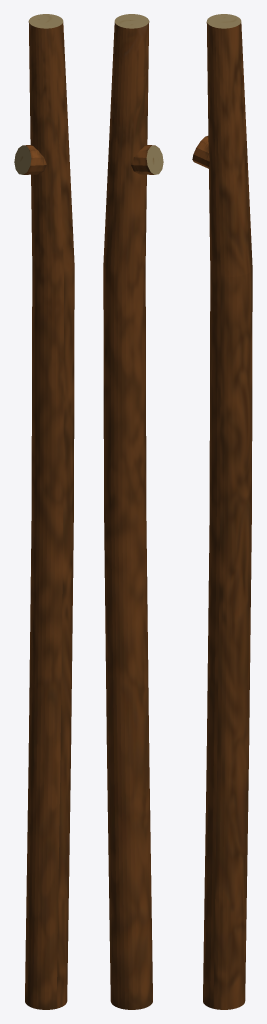
File: Club.gltf
3 renders of one model, left to right at view 1: azimuth 30°, elevation 25°; view 2: azimuth 150°, elevation 25°; view 3: azimuth 330°, elevation 25°, orthographic.
Parts seen in each view (by area): view 1: stick4; view 2: stick4; view 3: stick4.
Part boxes in pixels (x1,y1,x2,y2): stick4: (14,14,74,1009); stick4: (103,14,163,1009); stick4: (192,14,252,1009).
Bounding box in the file's own units: 0.1906 × 3.37 × 0.1324.
Materials: 2 (2 with a texture image).
